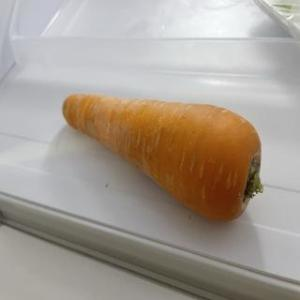carrot: (58, 86, 264, 222)
